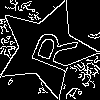R: (21, 24, 79, 75)
